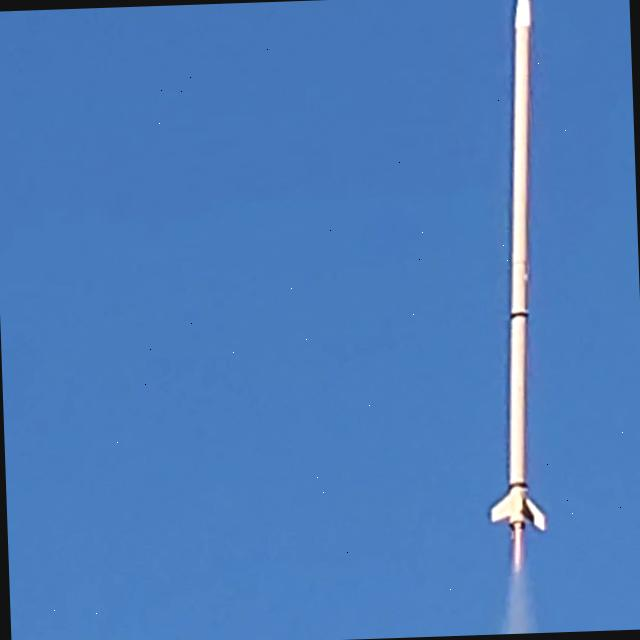rocket: (490, 0, 538, 563)
